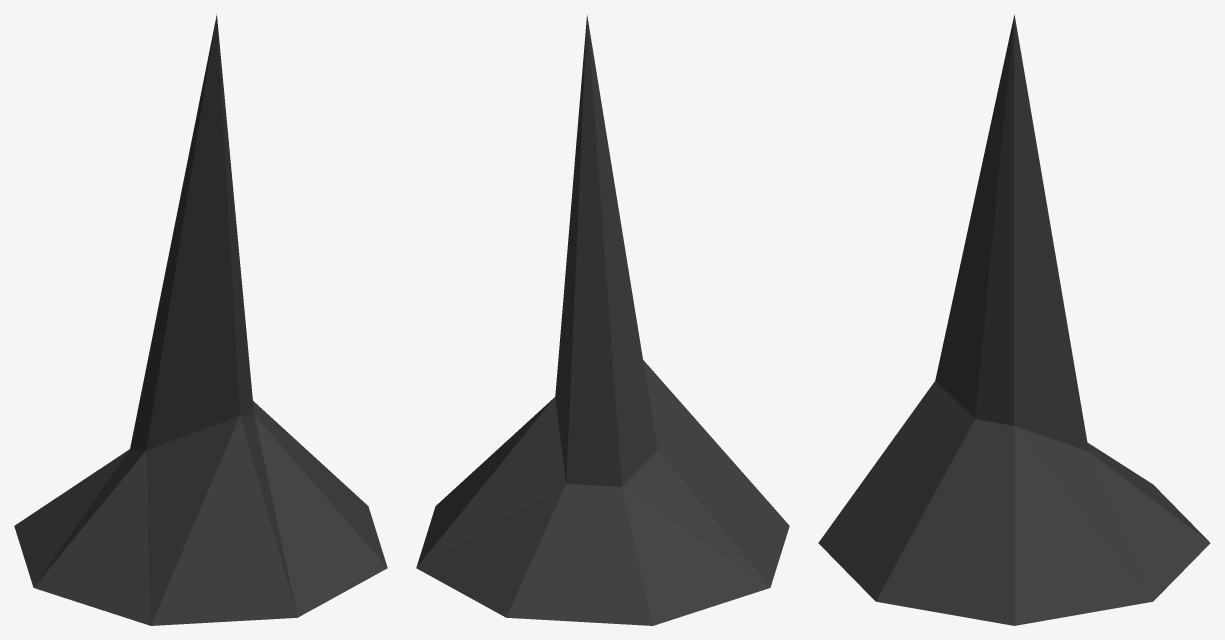
The model's file is Stal_2C_LOD.fbx.
3 renders of one model, left to right at view 1: azimuth 30°, elevation 25°; view 2: azimuth 150°, elevation 25°; view 3: azimuth 270°, elevation 25°, orthographic.
Visible parts, largest first — view 1: pCone32; view 2: pCone32; view 3: pCone32.
Boxes of the visible parts, box(x1,y1,x2,y2) form: pCone32: box(14, 14, 387, 625); pCone32: box(416, 14, 789, 625); pCone32: box(818, 14, 1210, 625).
Size of the model in its own units: 1.58 by 2.38 by 1.58.
